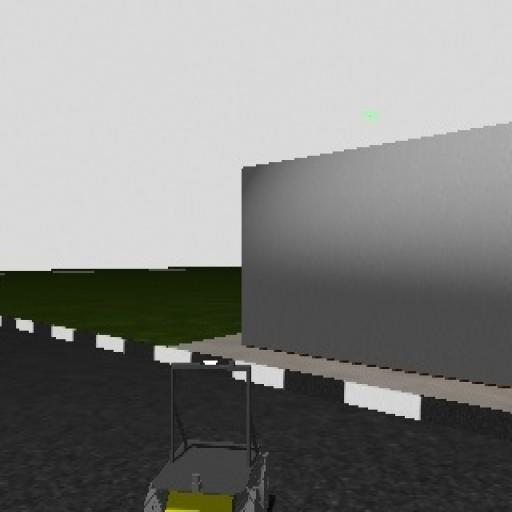huskya200: (143, 345, 283, 512)
